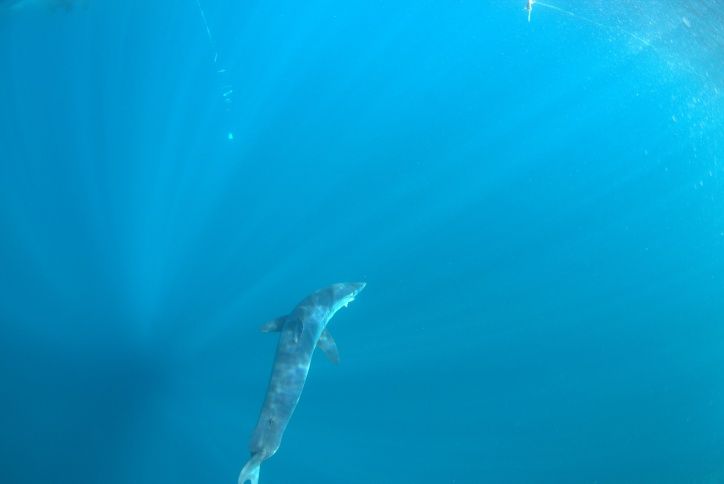Mako: (219, 264, 416, 484)
